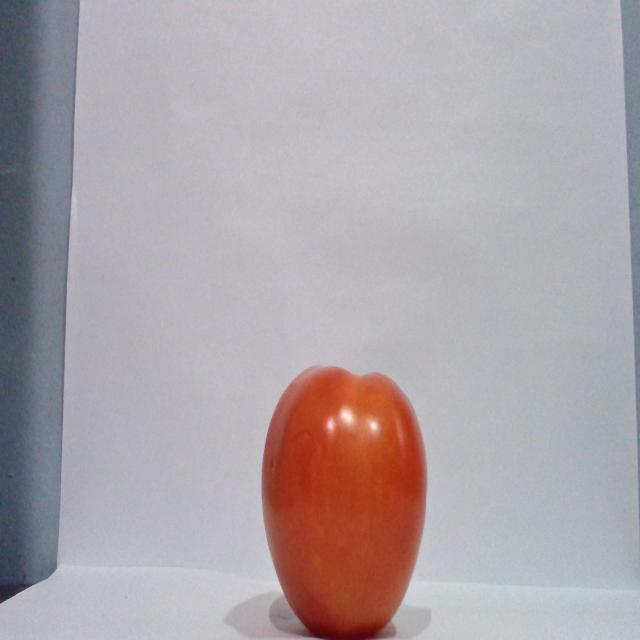Red: (259, 363, 428, 637)
